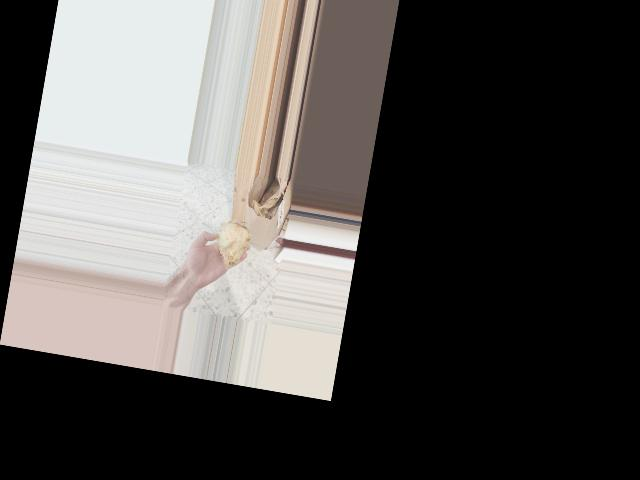onion: (211, 215, 253, 272)
